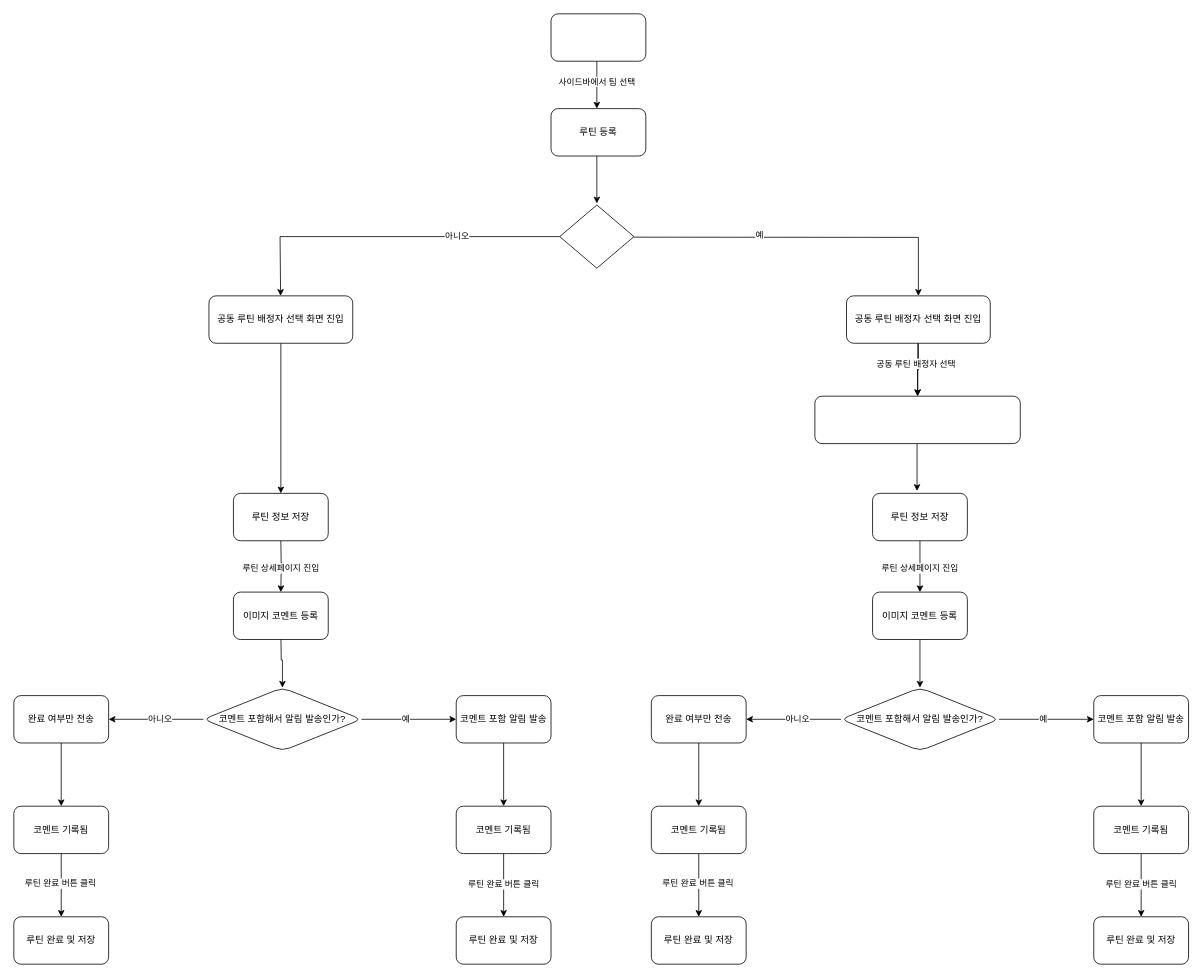
This 1202x978 diagram has some shape labels left out. Here are the shapes that lost their labels. From the top down, the centre of each, then its label:
At [598,37]: "팀 사용자".
At [596,236]: "공동 루틴 인가?".
At [917,419]: "루틴 간편등록(카테고리, 제모그 내용 배정자)".
